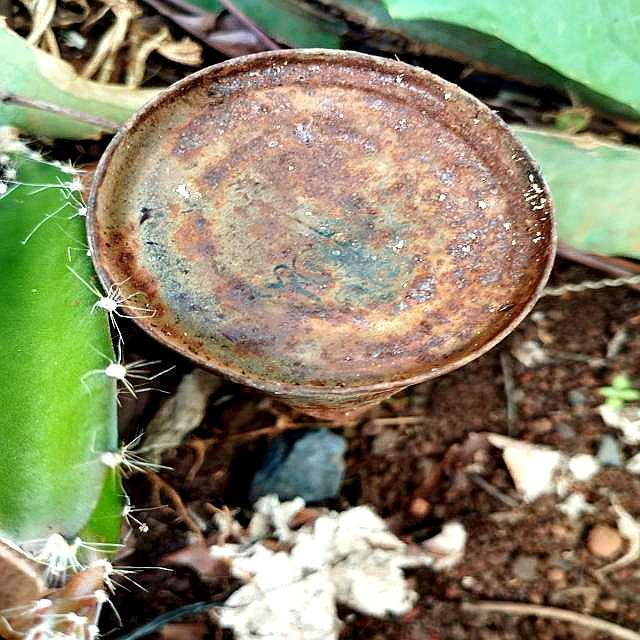Non-biodegradable: (85, 46, 560, 417)
